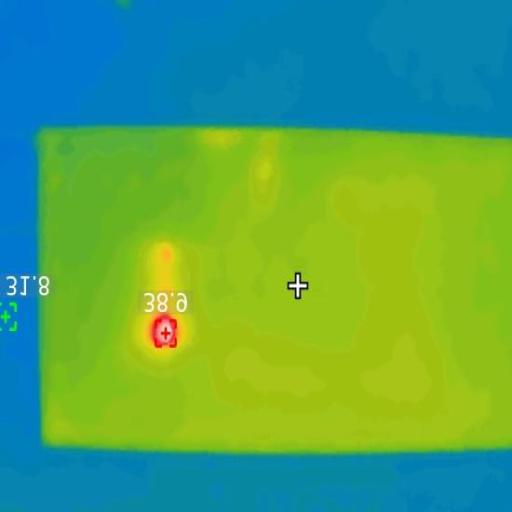hotspot: (156, 314, 176, 344)
